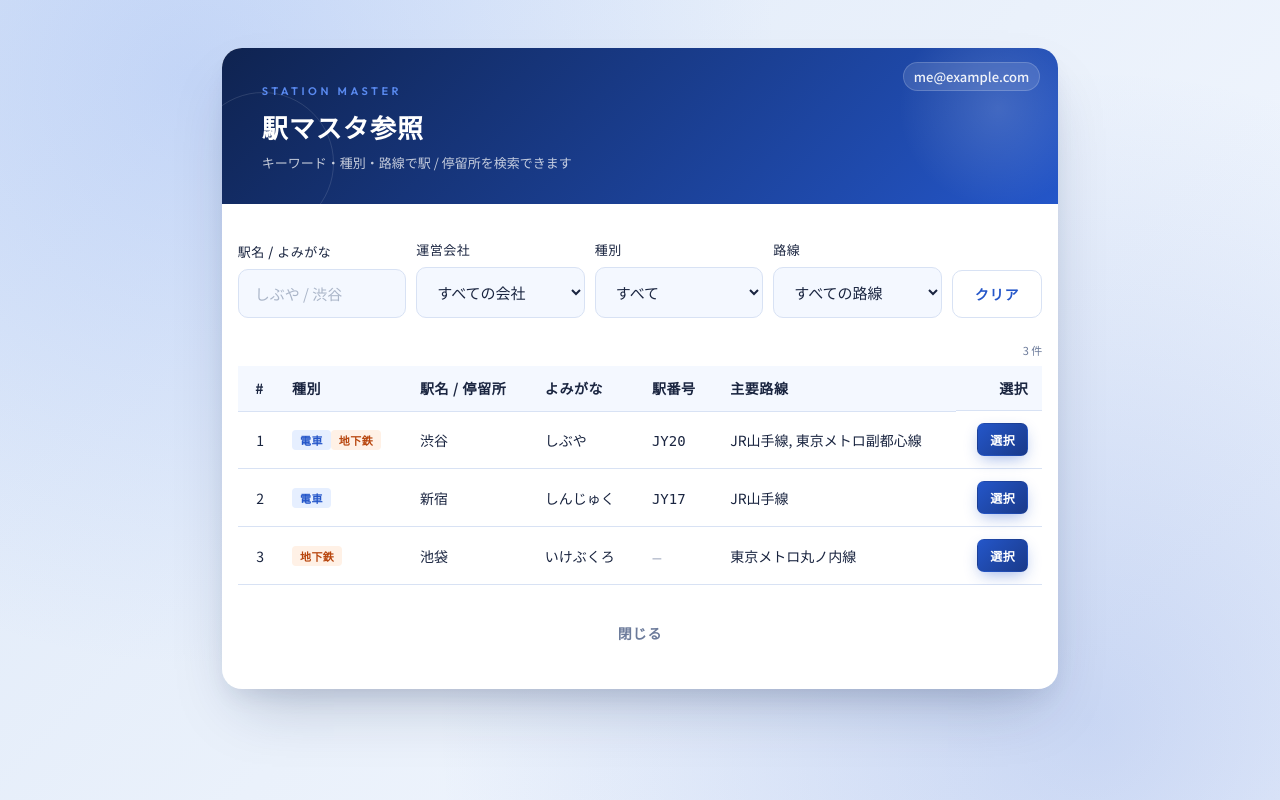
Test: StationPicker › US-065: q を入力して blur で client-side フィルタが反映される
This screenshot has width=1280, height=800.
Expected: the text "渋谷" is shown, [406,411,531,468]
Expected: the text "新宿" is shown, [406,468,531,526]
Note: q 入力中は filter は適用されない (blur まで保留)
Type "渋" into the field labelled "駅名 / よみがな" at coordinates (322, 294), box [238,269,406,318]
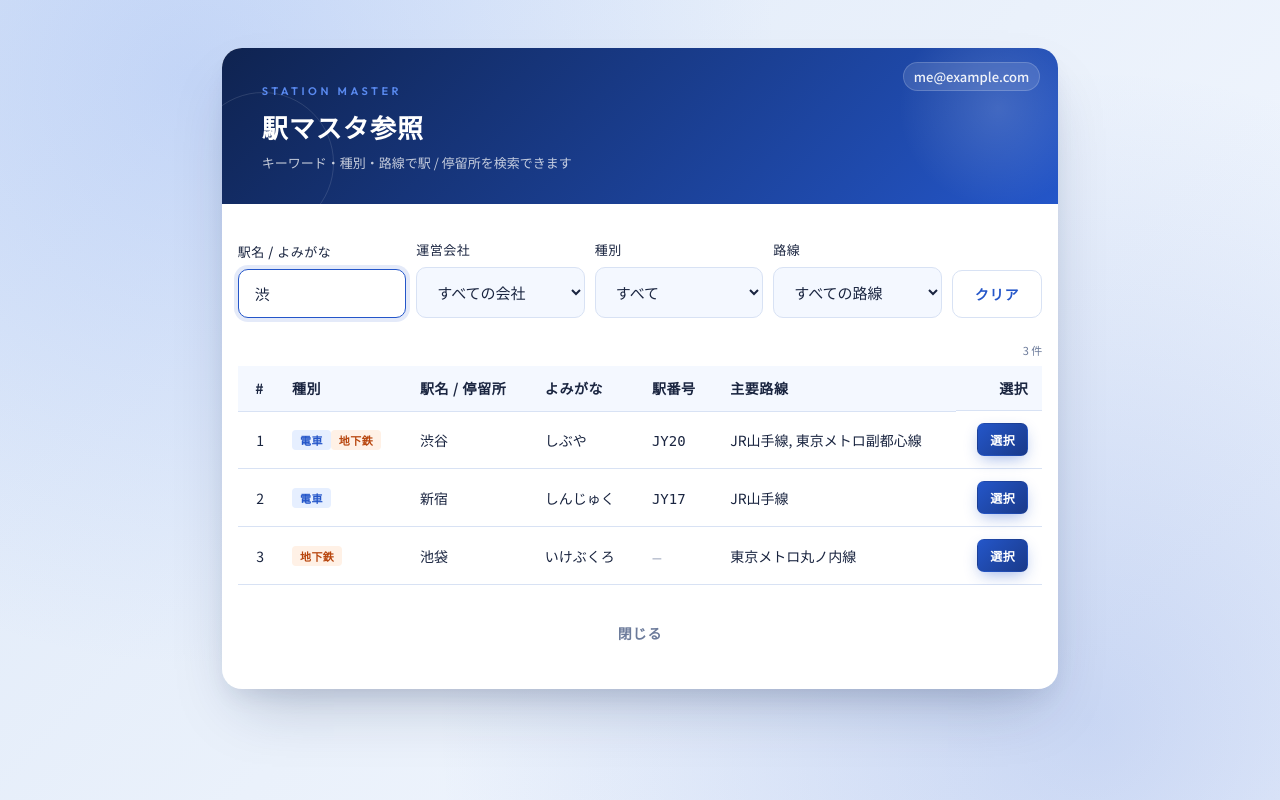
Expected: the text "新宿" is shown, [406,468,531,526]
Note: blur で適用 → 渋谷のみ残る
Press Tab
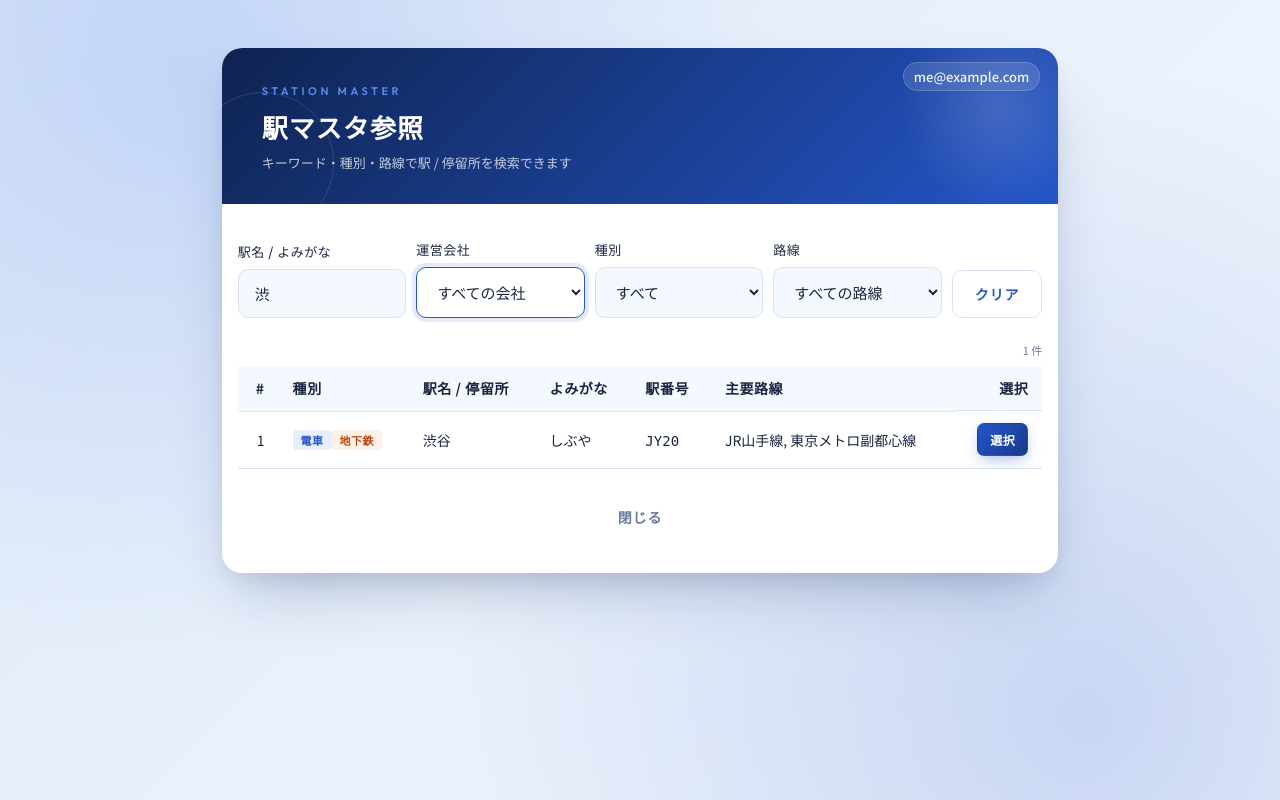
Expected: the text "渋谷" is shown, [409,411,536,468]
Result: the text "新宿" is gone
